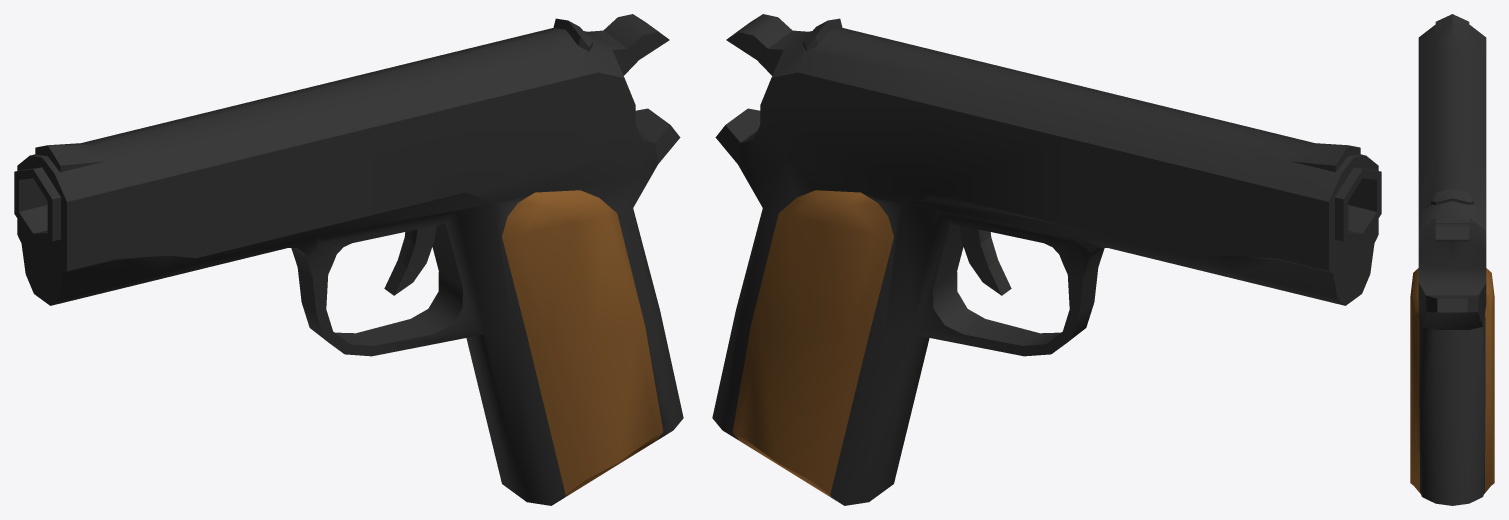
File: decor_gun.fbx
3 renders of one model, left to right at view 1: azimuth 30°, elevation 25°; view 2: azimuth 150°, elevation 25°; view 3: azimuth 270°, elevation 25°, orthographic. The views are drawn at different scales.
Visible parts, largest first — view 1: Cube.045; view 2: Cube.045; view 3: Cube.045.
Boxes of the visible parts, bbox=[...] form: Cube.045: bbox=[14, 14, 683, 505]; Cube.045: bbox=[712, 14, 1381, 505]; Cube.045: bbox=[1410, 14, 1494, 505].
Size of the model in its own units: 26.89 by 18.4 by 4.48.
